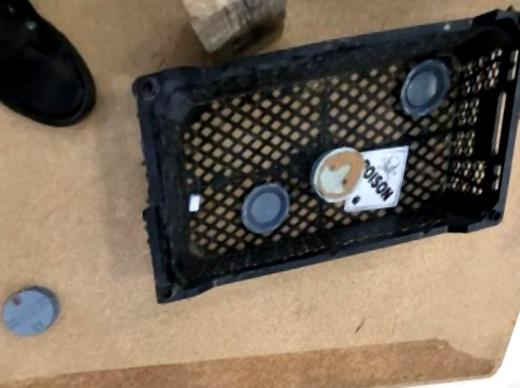poison: (338, 143, 412, 214)
